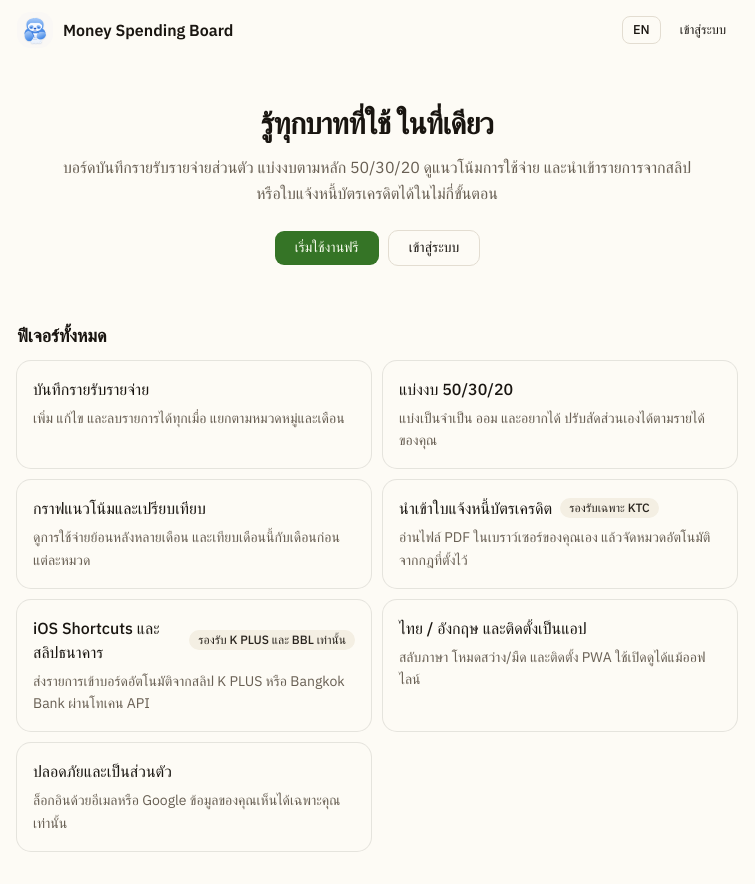
Index page › Render method › should show the sign-in screen once booting settles
Click the button "เข้าสู่ระบบ" in the row of "Money Spending Board": (703, 30) [669,16,737,44]
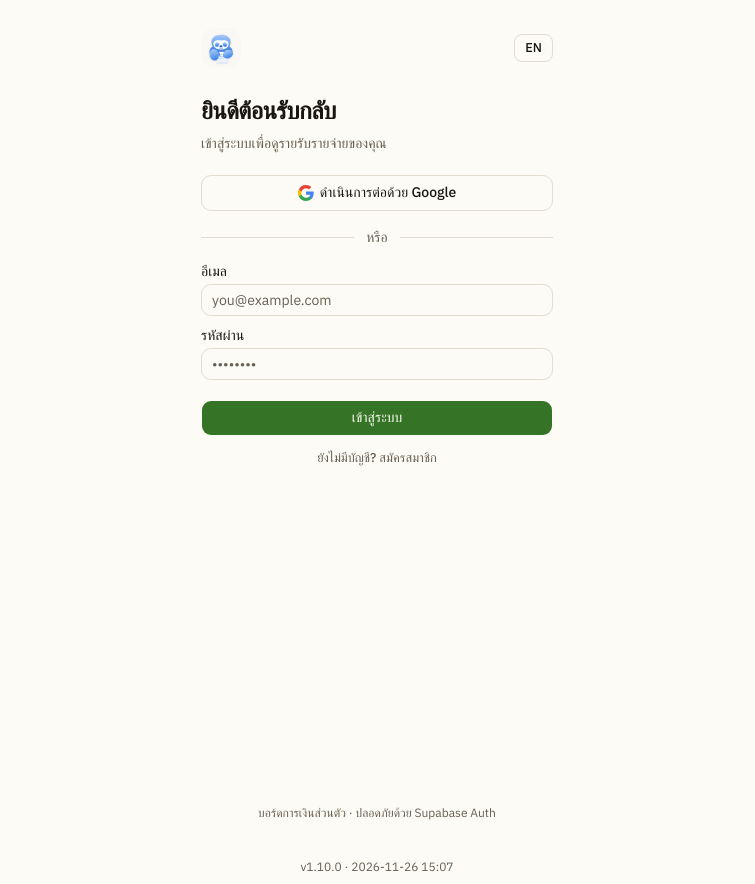
Expected: the field labelled "อีเมล" is shown, [201,284,553,316]
Expected: the password field labelled "รหัสผ่าน" is shown, [201,348,553,380]
Expected: the button "เข้าสู่ระบบ" is shown, [201,400,553,436]
